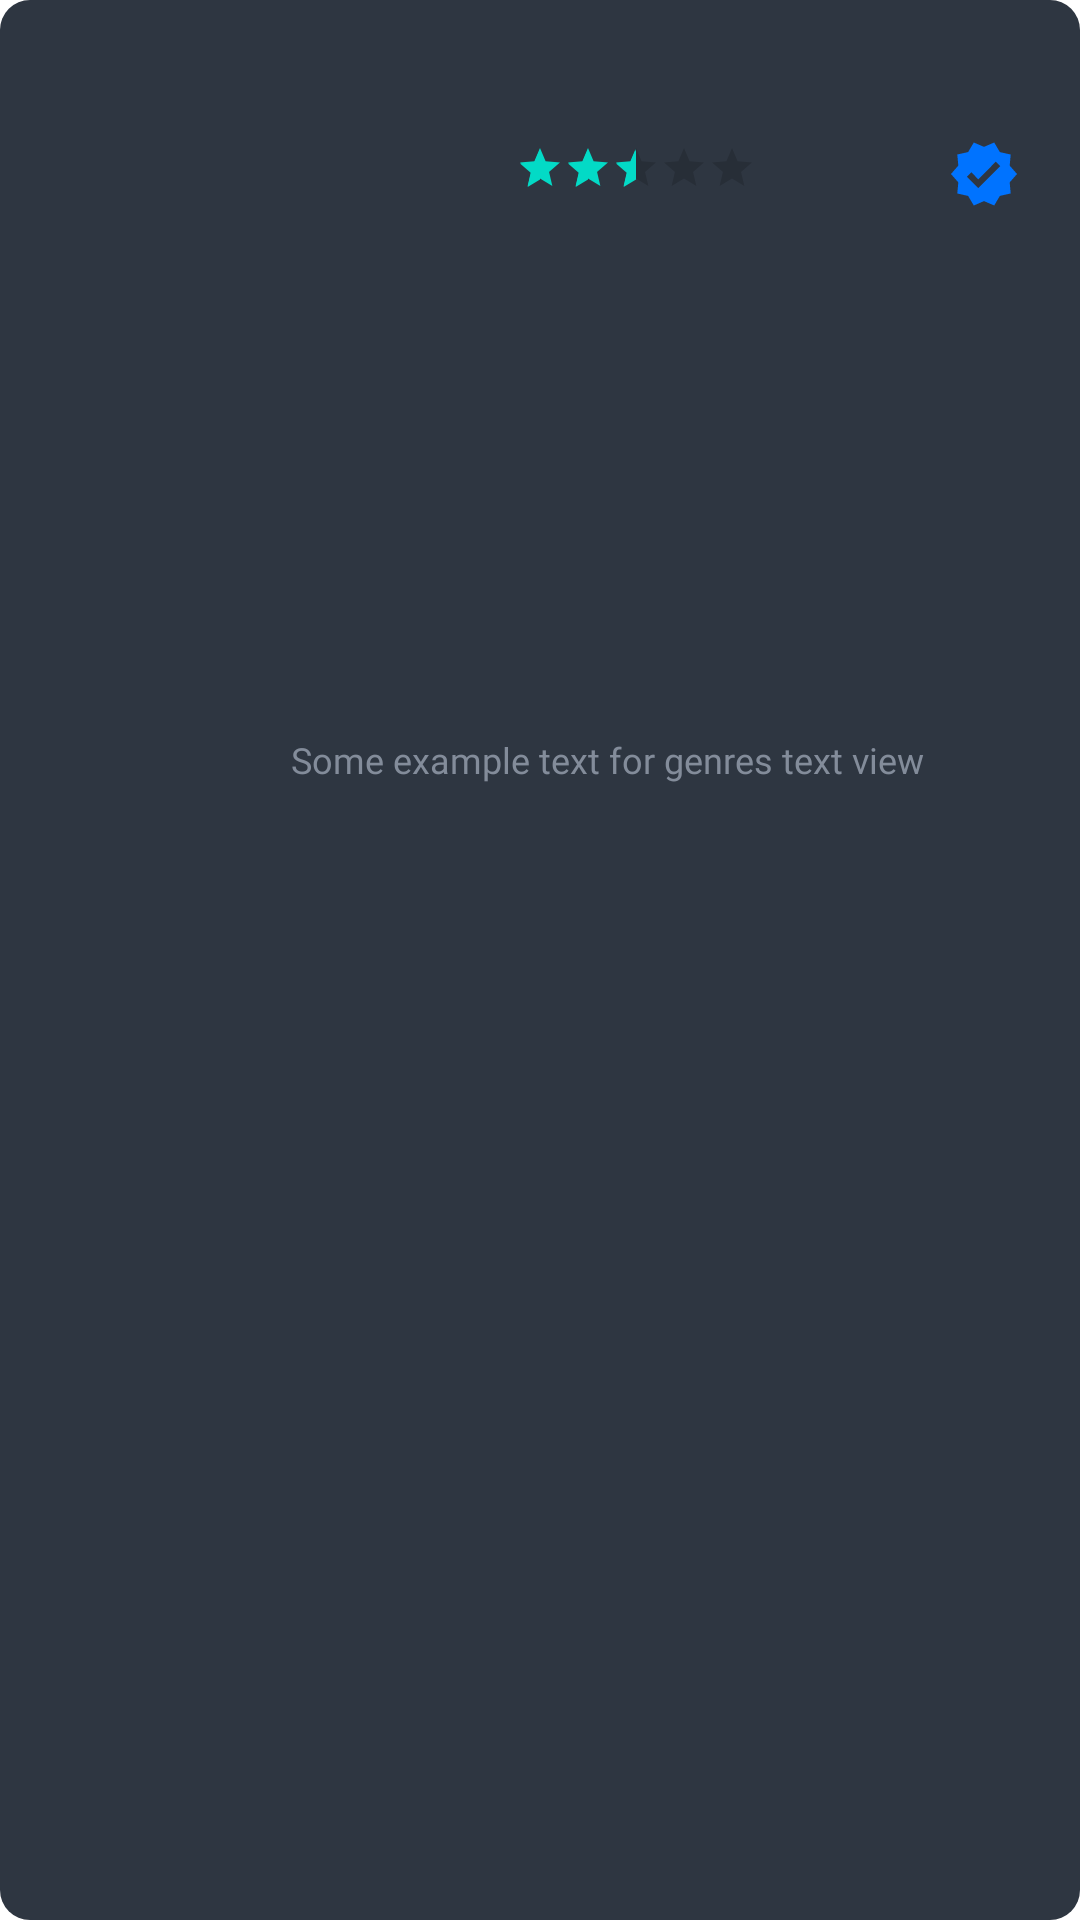

Screen size 1080 x 1920. Icon name, then its center in pixels as [x,y]:
completed: [984,174]
